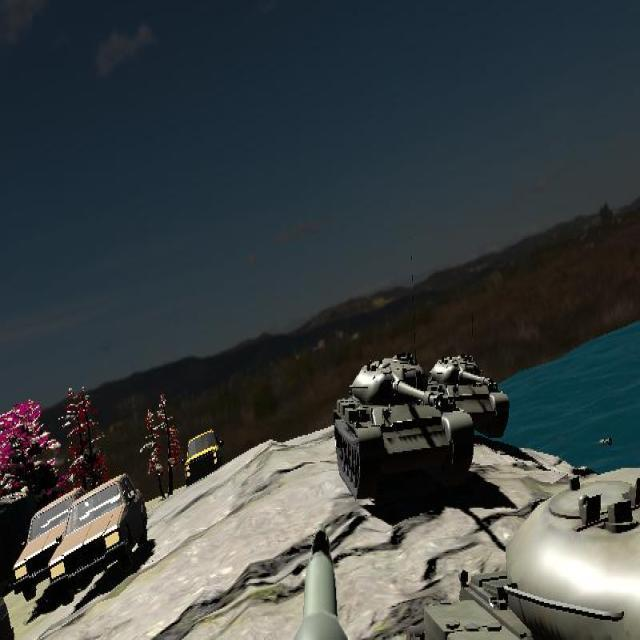Tank: (332, 350, 475, 500), (424, 351, 510, 446)
car: (49, 474, 149, 597), (14, 485, 95, 601), (183, 427, 225, 483)
